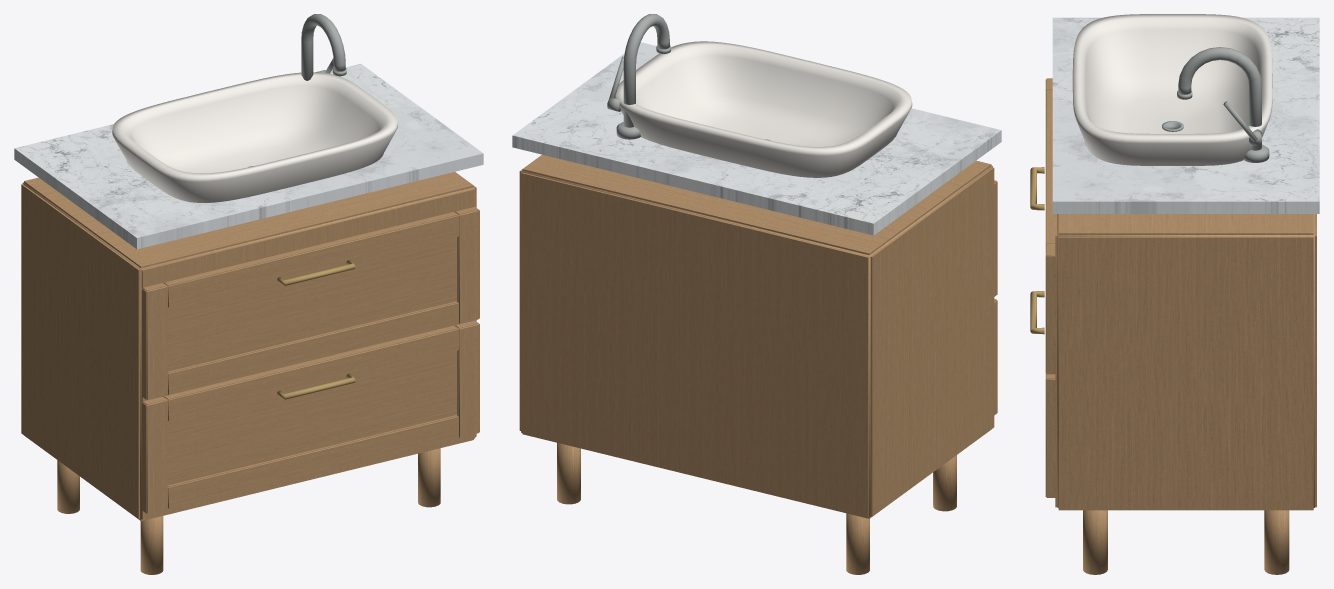
File: scandinavian.vanity.gltf
3 renders of one model, left to right at view 1: azimuth 30°, elevation 25°; view 2: azimuth 150°, elevation 25°; view 3: azimuth 270°, elevation 25°, orthographic. The views are drawn at different scales.
Visible parts, largest first — view 1: scandinavian.vanity.foot; view 2: scandinavian.vanity.foot; view 3: scandinavian.vanity.foot.
Part boxes in pixels (box(x1,y1,x2,y2)): scandinavian.vanity.foot: box(14, 14, 483, 574); scandinavian.vanity.foot: box(512, 14, 1001, 574); scandinavian.vanity.foot: box(1030, 14, 1319, 574).
Size of the model in its own units: 0.8 by 1.01 by 0.531.
5 materials, 2 textured.
